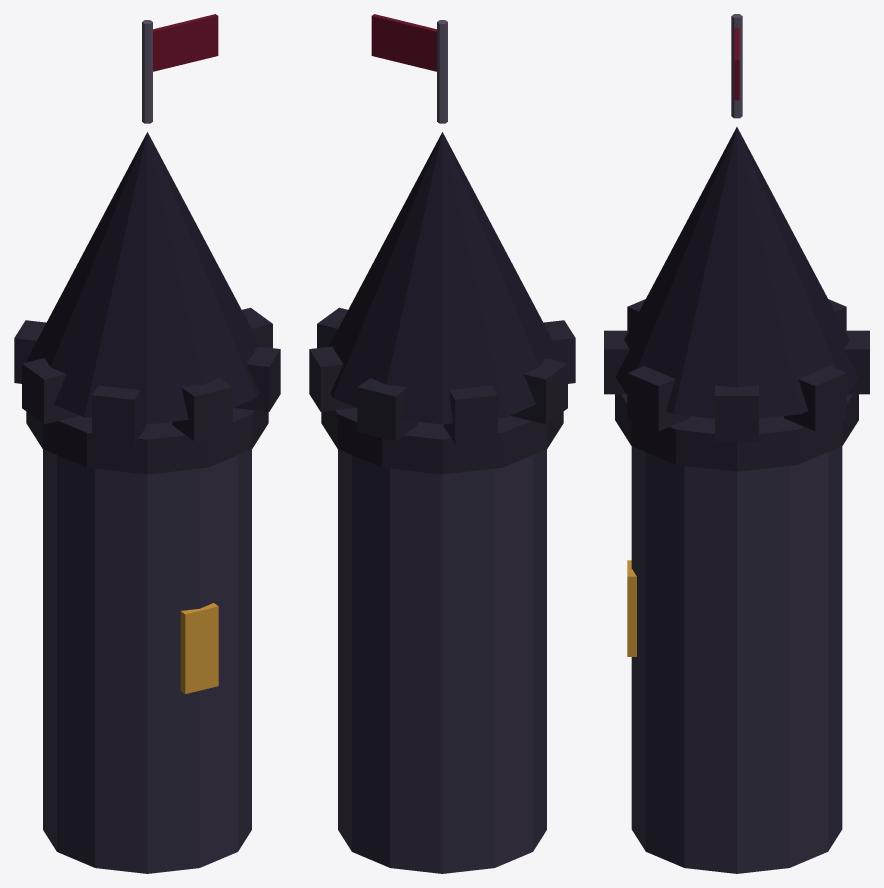
Rendered from deco_spire_lite.glb.
The picture shows the model from 3 angles, left to right: view 1: azimuth 30°, elevation 25°; view 2: azimuth 150°, elevation 25°; view 3: azimuth 270°, elevation 25°; orthographic projection.
Visible parts, largest first — view 1: Cylinder; view 2: Cylinder; view 3: Cylinder.
Boxes of the visible parts, box(x1,y1,x2,y2) form: Cylinder: box(14, 14, 280, 873); Cylinder: box(309, 14, 575, 873); Cylinder: box(604, 14, 869, 873).
Size of the model in its own units: 2.4 by 8.1 by 2.4.
